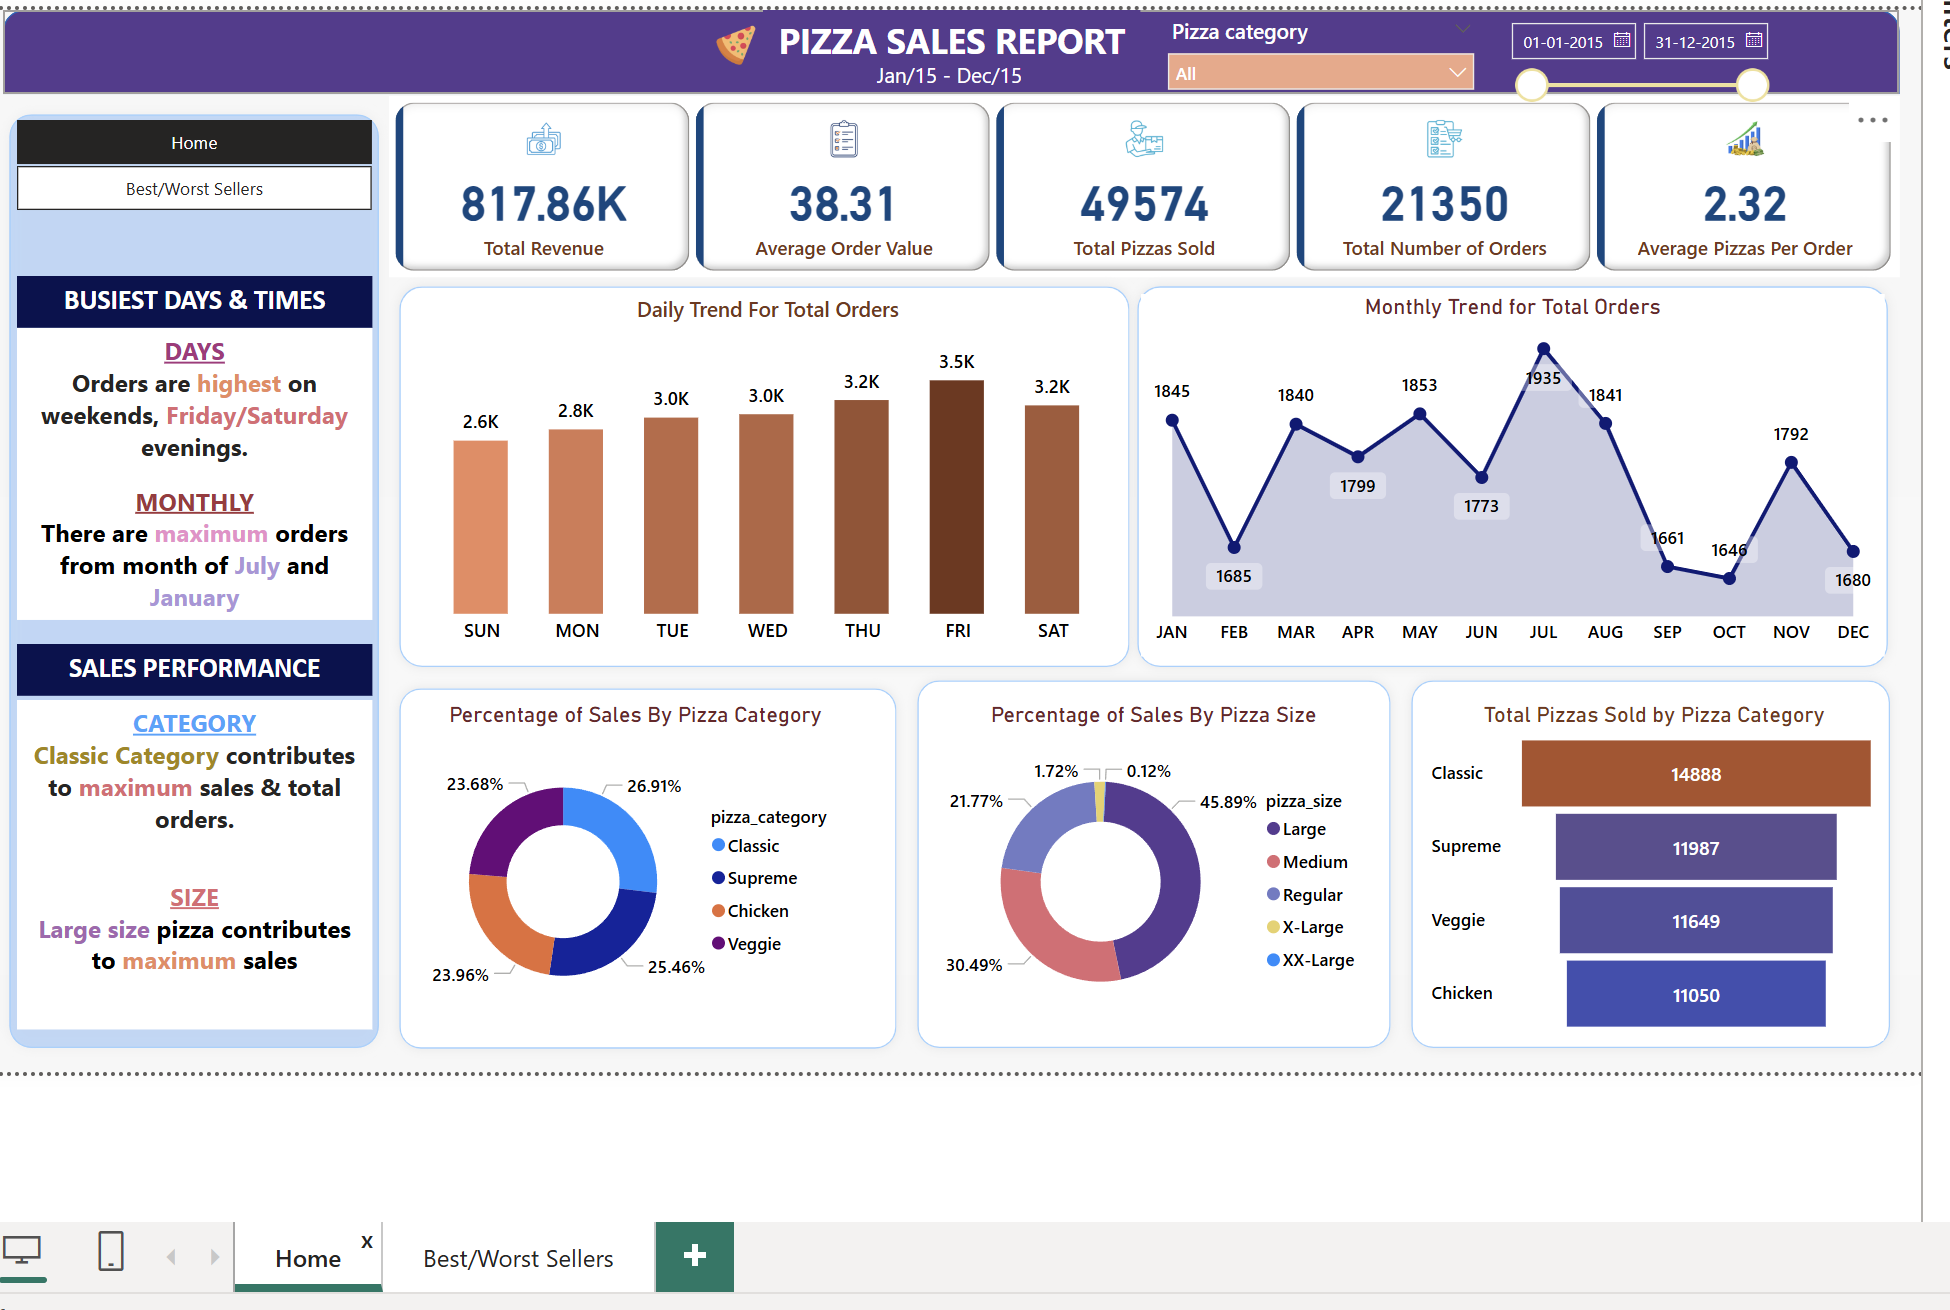

The dashboard page shown, as its layout file describes it:
{"tool":"powerbi","page":{"name":"Home","canvas":[1500,820],"ordinal":0},"visuals":[{"type":"cardVisual","fields":{"Data":["pizza_sales.Total Revenue","pizza_sales.Average Order Value","pizza_sales.Total Pizzas Sold","pizza_sales.Total Number of Orders","pizza_sales.Average Pizzas Per Order"]},"box":[317.1,65.7,1167.1,140],"z":0},{"type":"shape","box":[18.3,0,1465,65],"z":1000},{"type":"textbox","box":[605,0,291.7,51.7],"z":2000},{"type":"textbox","box":[683.3,33.3,133.3,40],"z":3000},{"type":"image","box":[563.3,1.7,41.7,51.7],"z":4000},{"type":"shape","box":[317.1,205.7,580,310],"z":5000},{"type":"columnChart","title":"Daily Trend For Total Orders","fields":{"Category":["pizza_sales.Order Day"],"Y":["pizza_sales.Total Number of Orders"]},"box":[332.9,220,554.3,280],"z":6000},{"type":"shape","box":[887.1,205.7,595.7,310],"z":7000},{"type":"areaChart","title":"Monthly Trend for Total Orders","fields":{"Category":["pizza_sales.Order Month"],"Y":["pizza_sales.Total Number of Orders"]},"box":[897.1,220,574.3,280],"z":8000},{"type":"shape","box":[317.1,515.7,400,294.3],"z":9000},{"type":"shape","box":[15.7,72.9,301.4,737.1],"z":10000},{"type":"shape","box":[717.1,510,381.4,300],"z":11000},{"type":"shape","box":[1098.6,510,385.7,300],"z":12000},{"type":"donutChart","title":"Percentage of Sales By Pizza Category","fields":{"Category":["pizza_sales.pizza_category"],"Y":["pizza_sales.Total Revenue"]},"box":[332.9,534.3,350,258.6],"z":13000},{"type":"donutChart","title":"Percentage of Sales By Pizza Size","fields":{"Y":["pizza_sales.Total Revenue"],"Category":["pizza_sales.pizza_size"]},"box":[734.3,534.3,347.1,258.6],"z":14000},{"type":"funnel","title":"Total Pizzas Sold by Pizza Category","fields":{"Category":["pizza_sales.pizza_category"],"Y":["pizza_sales.Total Pizzas Sold"]},"box":[1117.1,534.3,354.3,261.4],"z":15000},{"type":"textbox","box":[30,205.7,274.3,40],"z":16000},{"type":"textbox","box":[30,245.7,274.3,225.7],"z":17000},{"type":"textbox","box":[30,490,274.3,40],"z":18000},{"type":"textbox","box":[30,532.9,274.3,254.3],"z":19000},{"type":"slicer","fields":{"Values":["pizza_sales.pizza_category"]},"box":[908.3,0,256.7,65],"z":20000},{"type":"slicer","fields":{"Values":["pizza_sales.order_date"]},"box":[1171.7,0,220,71.7],"z":21000},{"type":"pageNavigator","box":[30,85.7,274.3,34.3],"z":21001},{"type":"pageNavigator","box":[30,120,274.3,34.3],"z":21002}]}

Visuals, with their boxes on the page's 1500x820 design canvas (x1, y1, x2, y2). These are canvas units, not pixel positions in the 1950x1310 screenshot, which may show the page scaled, cropped or inside an application window:
cardVisual - pizza_sales.Total Revenue x pizza_sales.Average Order Value: locate(317, 66, 1484, 206)
shape: locate(18, 0, 1483, 65)
textbox: locate(605, 0, 897, 52)
textbox: locate(683, 33, 817, 73)
image: locate(563, 2, 605, 53)
shape: locate(317, 206, 897, 516)
"Daily Trend For Total Orders" columnChart: locate(333, 220, 887, 500)
shape: locate(887, 206, 1483, 516)
"Monthly Trend for Total Orders" areaChart: locate(897, 220, 1471, 500)
shape: locate(317, 516, 717, 810)
shape: locate(16, 73, 317, 810)
shape: locate(717, 510, 1098, 810)
shape: locate(1099, 510, 1484, 810)
"Percentage of Sales By Pizza Category" donutChart: locate(333, 534, 683, 793)
"Percentage of Sales By Pizza Size" donutChart: locate(734, 534, 1081, 793)
"Total Pizzas Sold by Pizza Category" funnel: locate(1117, 534, 1471, 796)
textbox: locate(30, 206, 304, 246)
textbox: locate(30, 246, 304, 471)
textbox: locate(30, 490, 304, 530)
textbox: locate(30, 533, 304, 787)
slicer - pizza_sales.pizza_category: locate(908, 0, 1165, 65)
slicer - pizza_sales.order_date: locate(1172, 0, 1392, 72)
pageNavigator: locate(30, 86, 304, 120)
pageNavigator: locate(30, 120, 304, 154)
